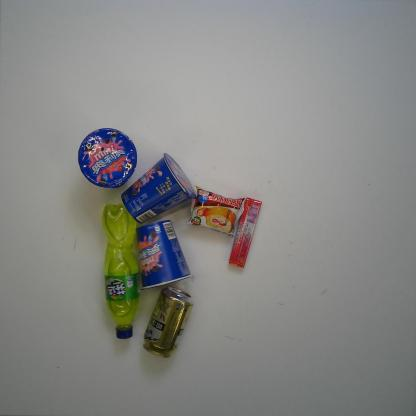Alcohol: (144, 286, 194, 358)
Candy: (229, 197, 262, 269)
Dessert: (121, 152, 197, 224), (136, 220, 193, 290), (77, 127, 138, 190), (181, 185, 247, 239)
Drink: (101, 202, 141, 340)
